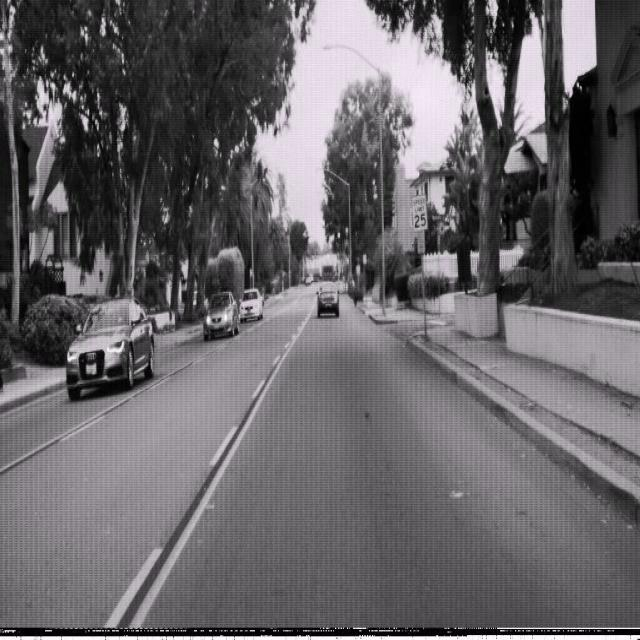speedLimit25: (411, 192, 428, 233)
